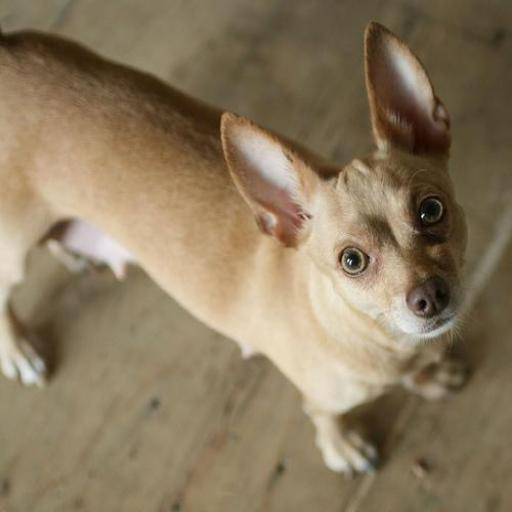dog_face: (222, 16, 470, 351)
